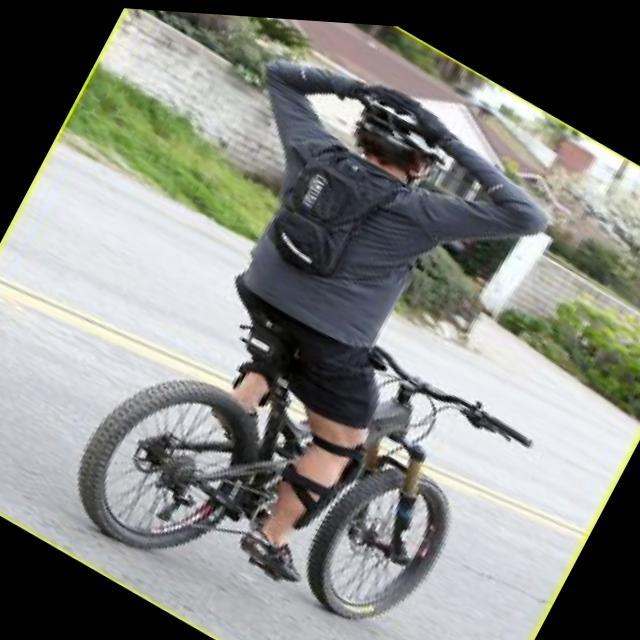Helmet: (354, 95, 445, 192)
